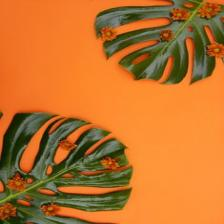orange: (1, 0, 224, 224)
